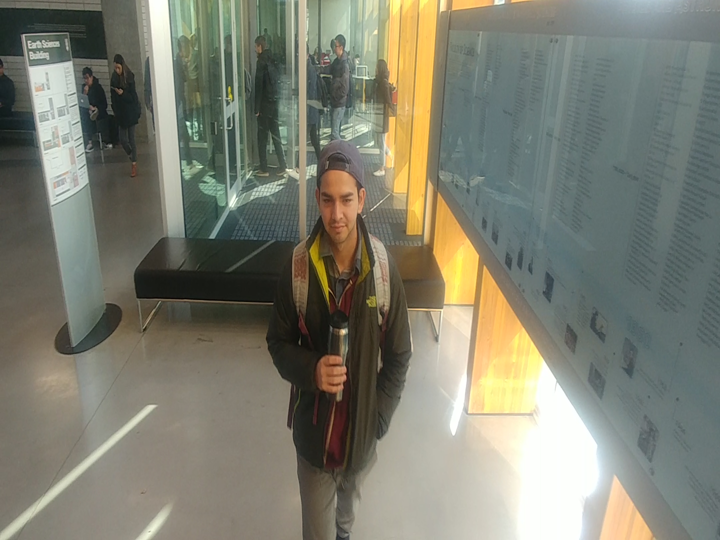face: (301, 138, 372, 247), (107, 51, 133, 78), (369, 56, 394, 82), (251, 30, 271, 58), (77, 64, 99, 88), (330, 32, 350, 58)
human: (261, 135, 416, 540), (250, 26, 289, 179), (104, 50, 143, 184), (365, 54, 394, 187), (76, 63, 116, 154), (325, 31, 351, 163)
